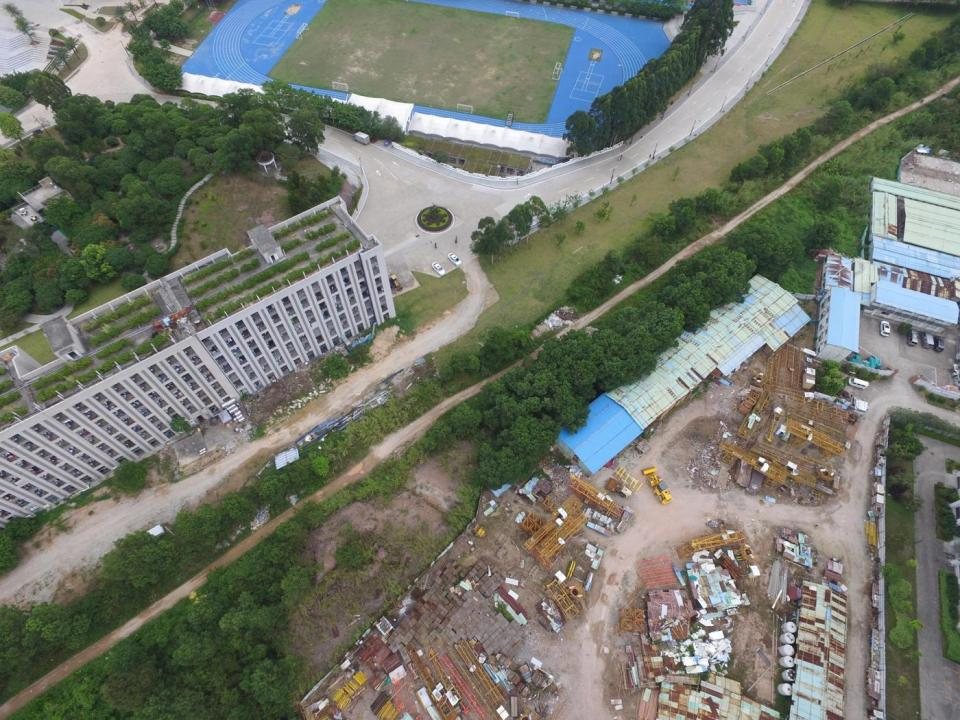car: (918, 330, 934, 349), (446, 251, 462, 268), (933, 334, 946, 351), (431, 262, 446, 276), (879, 320, 890, 338), (907, 328, 918, 346)
truck: (352, 129, 371, 147)
van: (848, 377, 868, 390)
